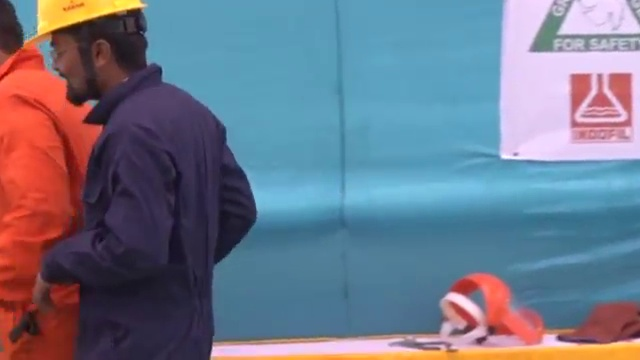helmet: (23, 1, 151, 47)
helmet_on: (24, 1, 163, 108)
person: (24, 1, 257, 360), (1, 1, 92, 359)
